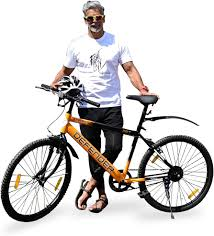Bicycle: (12, 83, 209, 223)
